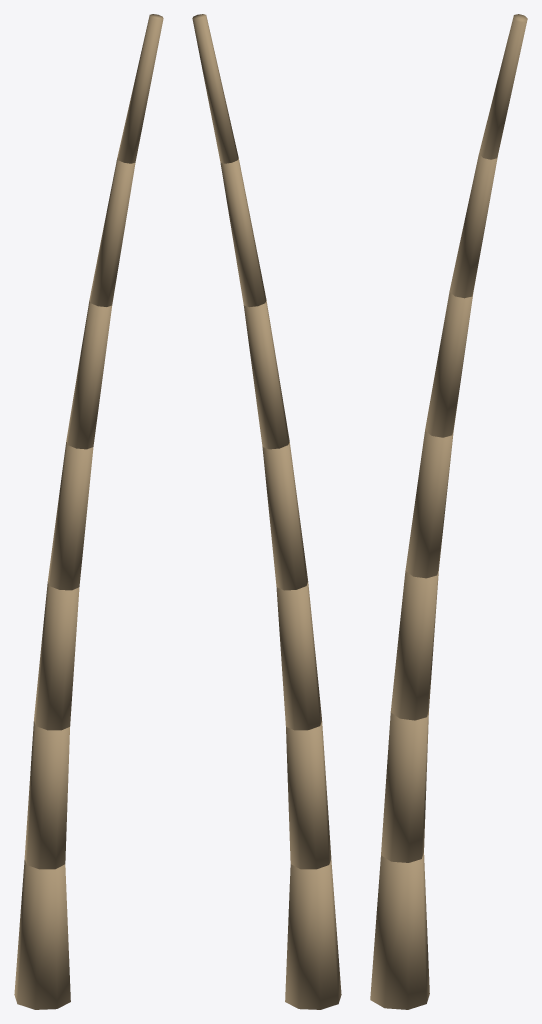
File: palm.glb
The picture shows the model from 3 angles, left to right: view 1: azimuth 30°, elevation 25°; view 2: azimuth 150°, elevation 25°; view 3: azimuth 330°, elevation 25°; orthographic projection. The views are drawn at different scales.
Visible parts, largest first — view 1: PalmTrunk; view 2: PalmTrunk; view 3: PalmTrunk.
Part boxes in pixels (<box>): PalmTrunk: <box>14,14,163,1009</box>; PalmTrunk: <box>192,14,341,1009</box>; PalmTrunk: <box>370,14,527,1009</box>.
Bounding box in the file's own units: 1.15 × 7.21 × 0.3999.
